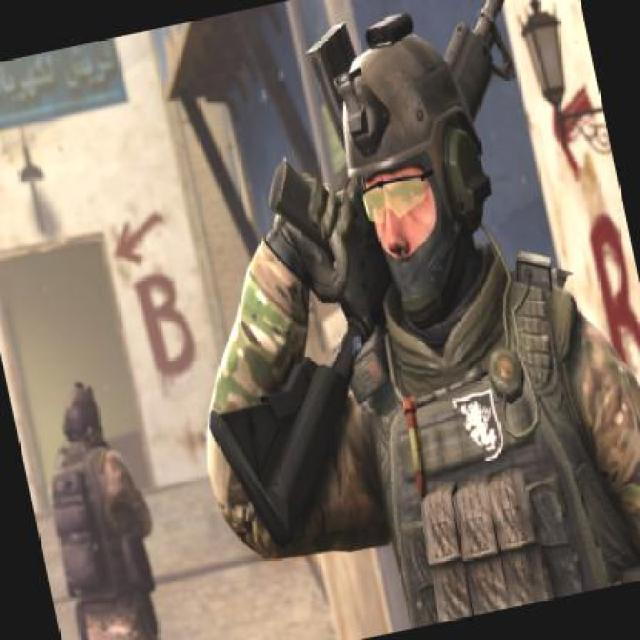MIL_Pax: (116, 0, 638, 638), (19, 366, 186, 639)
